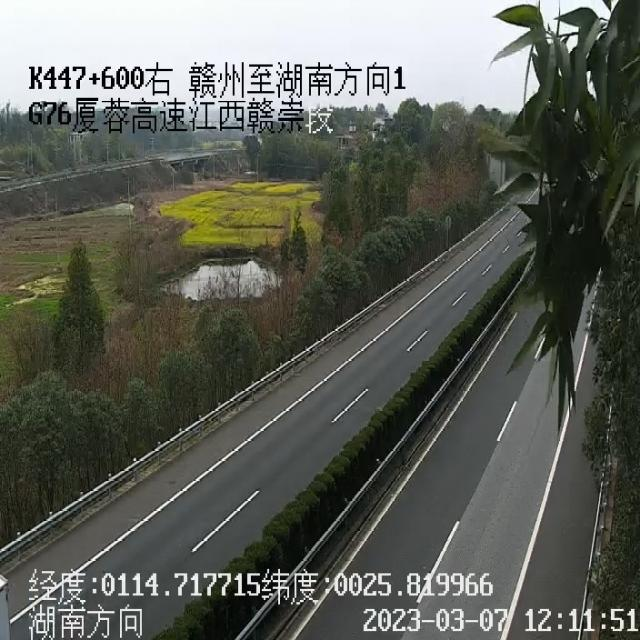cover: (510, 318, 597, 436), (500, 187, 553, 258)
